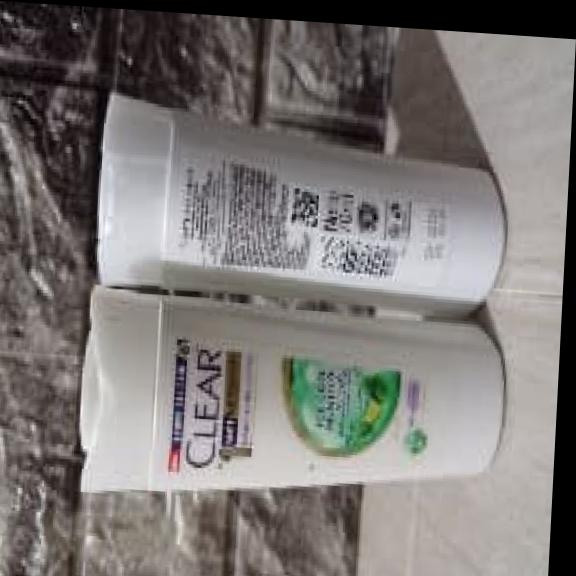Plastik: (80, 110, 532, 524)
